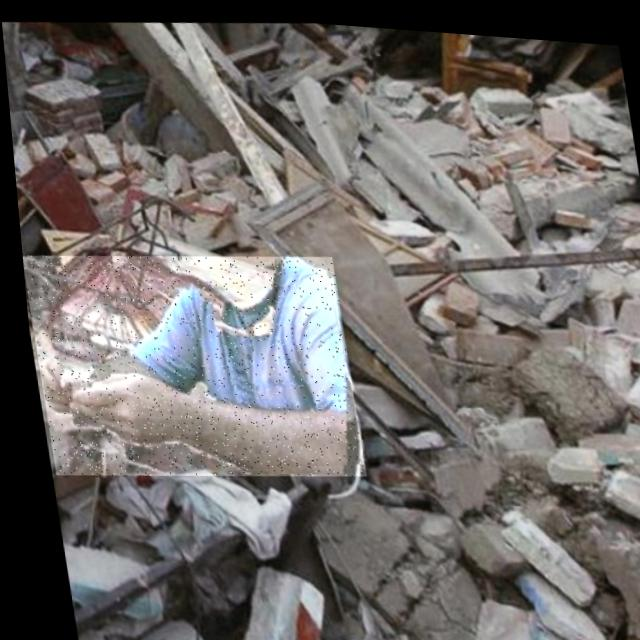Person in Rubble: (16, 233, 359, 492)
